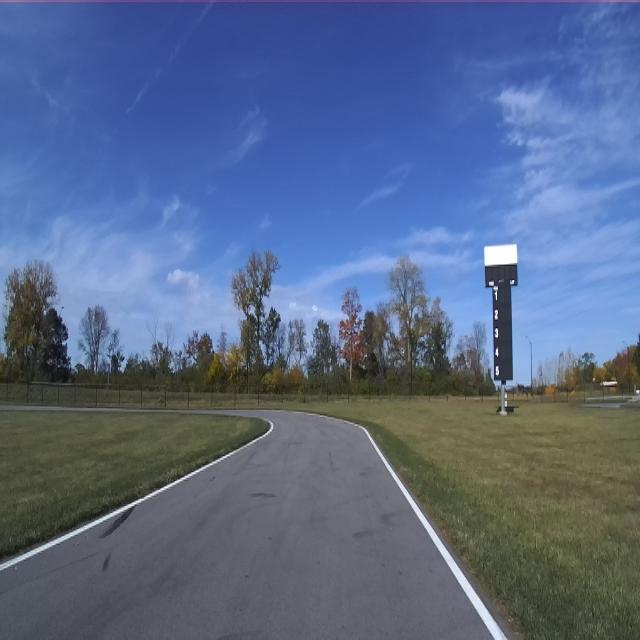white-line: (307, 412, 506, 639), (0, 417, 274, 572)
